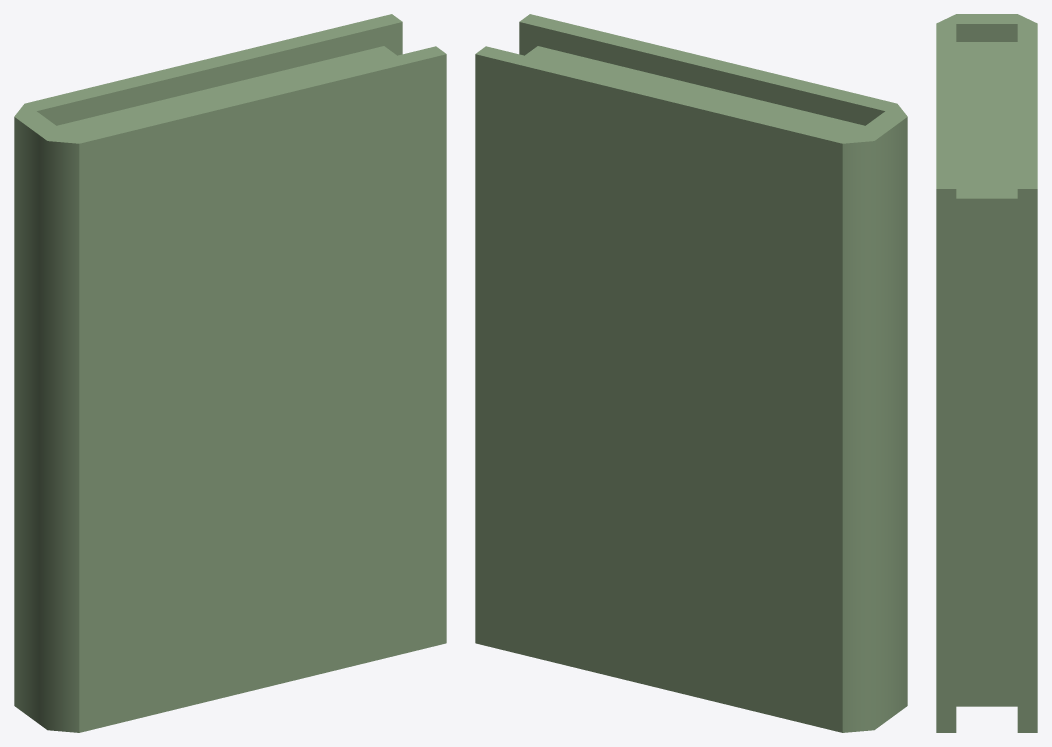
File: Book_V06.fbx
3 renders of one model, left to right at view 1: azimuth 30°, elevation 25°; view 2: azimuth 150°, elevation 25°; view 3: azimuth 270°, elevation 25°, orthographic. The views are drawn at different scales.
Parts seen in each view (by area): view 1: Book_V6; view 2: Book_V6; view 3: Book_V6.
Part boxes in pixels (left/top/right/bottom): Book_V6: left=14, top=14, right=446, bottom=732; Book_V6: left=475, top=14, right=907, bottom=732; Book_V6: left=936, top=14, right=1037, bottom=732.
Bounding box in the file's own units: 21.97 × 31.83 × 5.37.
